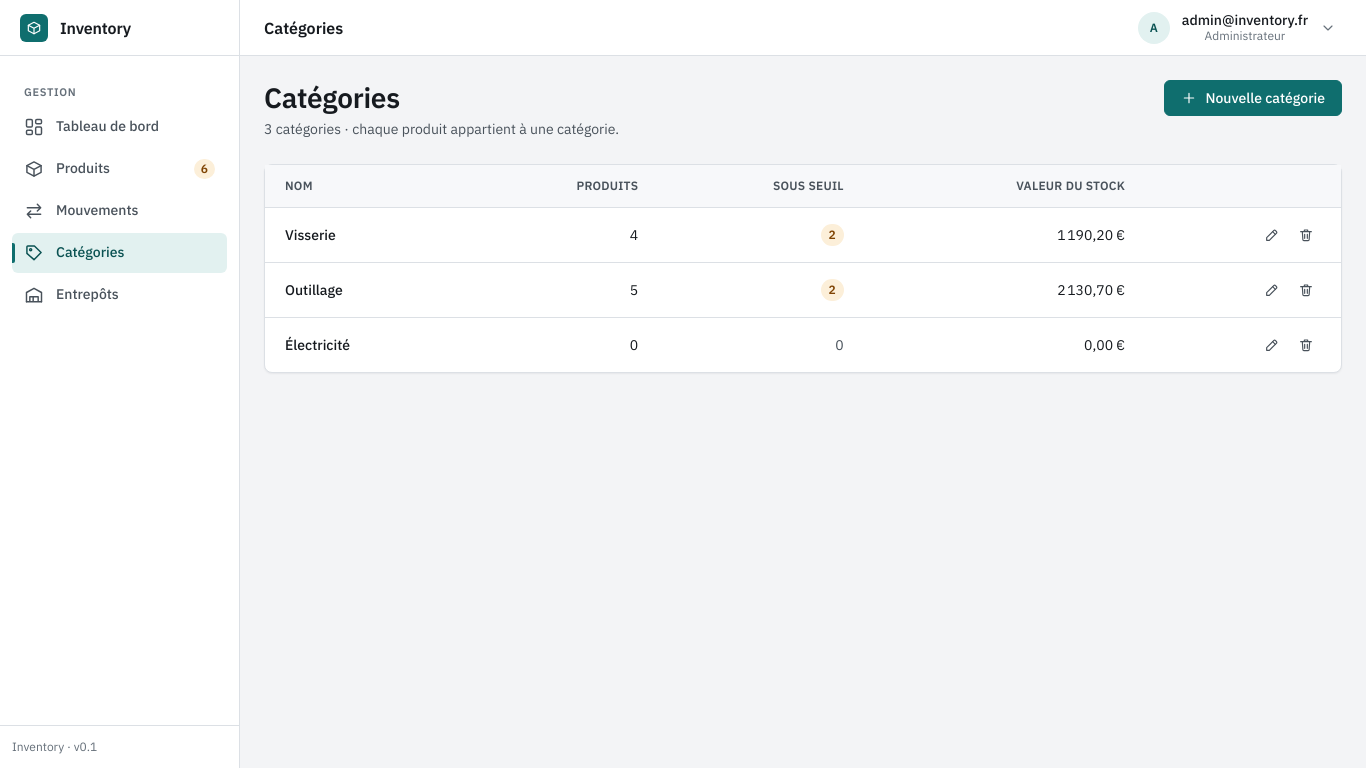
AppShell navigation › navigates between sections
Expected: the header is shown, [240, 0, 1365, 56]
Click the link "Entrepôts": (71, 294) [24, 284, 119, 304]
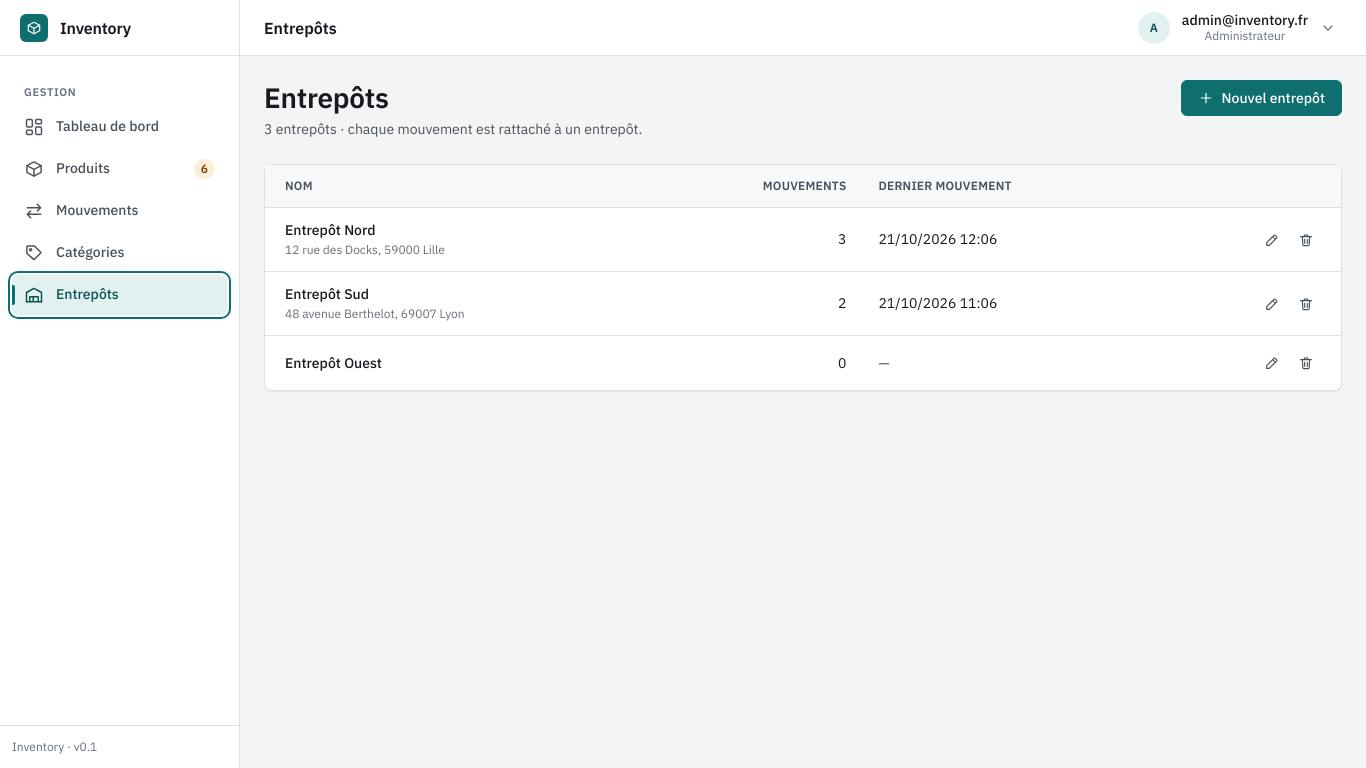
Expected: the heading "Entrepôts" is shown, [264, 79, 389, 116]
